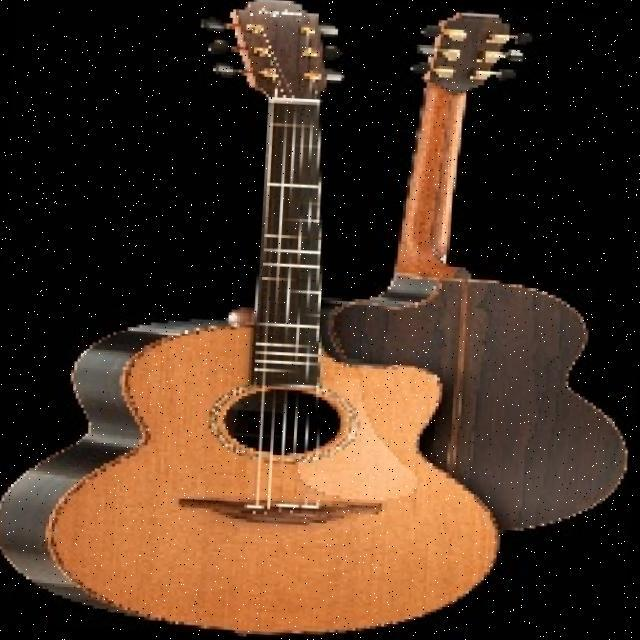acousticguitar: (0, 1, 497, 632), (325, 14, 626, 528)
